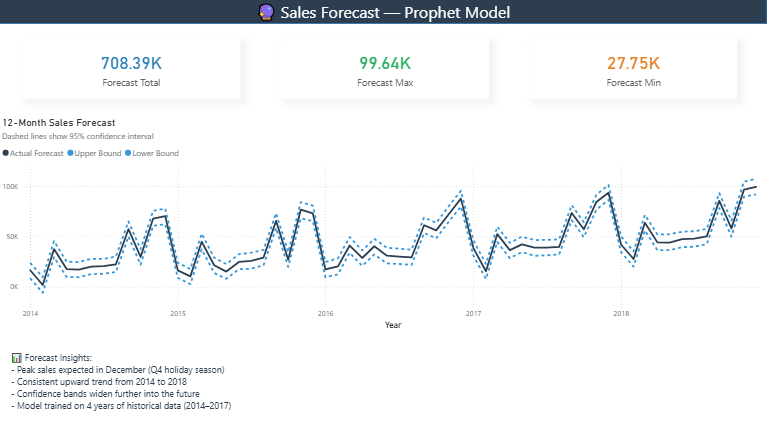

This screenshot's page, from the dashboard's own definition file:
{"tool":"powerbi","page":{"name":"Sales Forecast","canvas":[1280,720],"ordinal":5},"visuals":[{"type":"shape","box":[0,0,1279.8,41.1],"z":0},{"type":"card","fields":{"Values":["prophet_forecast.Forecast Total"]},"box":[38.2,63.2,364.4,102.9],"z":1000},{"type":"card","fields":{"Values":["prophet_forecast.Forecast Max"]},"box":[470.2,63.2,346.8,102.9],"z":2000},{"type":"card","fields":{"Values":["prophet_forecast.Forecast Min"]},"box":[884.6,63.2,345.3,102.9],"z":3000},{"type":"lineChart","title":"12-Month Sales Forecast","fields":{"Y":["prophet_forecast.Actual Forecast","prophet_forecast.Upper Bound","prophet_forecast.Lower Bound"],"Category":["prophet_forecast.ds.Variation.Date Hierarchy.Year","prophet_forecast.ds.Variation.Date Hierarchy.Quarter","prophet_forecast.ds.Variation.Date Hierarchy.Month","prophet_forecast.ds.Variation.Date Hierarchy.Day"]},"box":[0,195.4,1279.8,361.5],"z":4000},{"type":"textbox","box":[0,567.2,1279.8,152.8],"z":5000}]}

Visuals, with their boxes in screenshot pixels (x1, y1, x2, y2), scaled from the page's 1280x720 canvas onto the 767x431 screenshot:
shape: 0 0 766 25
card - prophet_forecast.Forecast Total: 23 38 241 99
card - prophet_forecast.Forecast Max: 282 38 490 99
card - prophet_forecast.Forecast Min: 530 38 737 99
"12-Month Sales Forecast" lineChart: 0 117 766 333
textbox: 0 340 766 430
